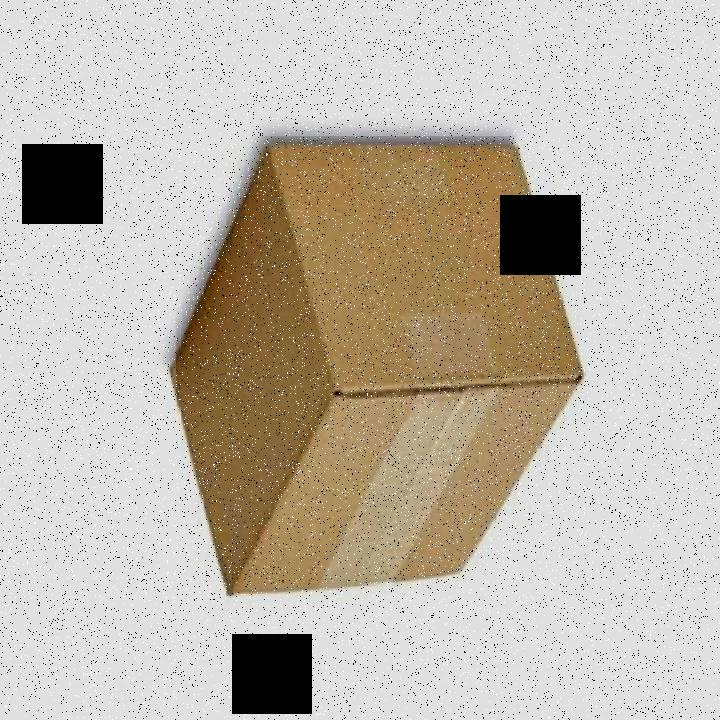box: (176, 136, 587, 596)
